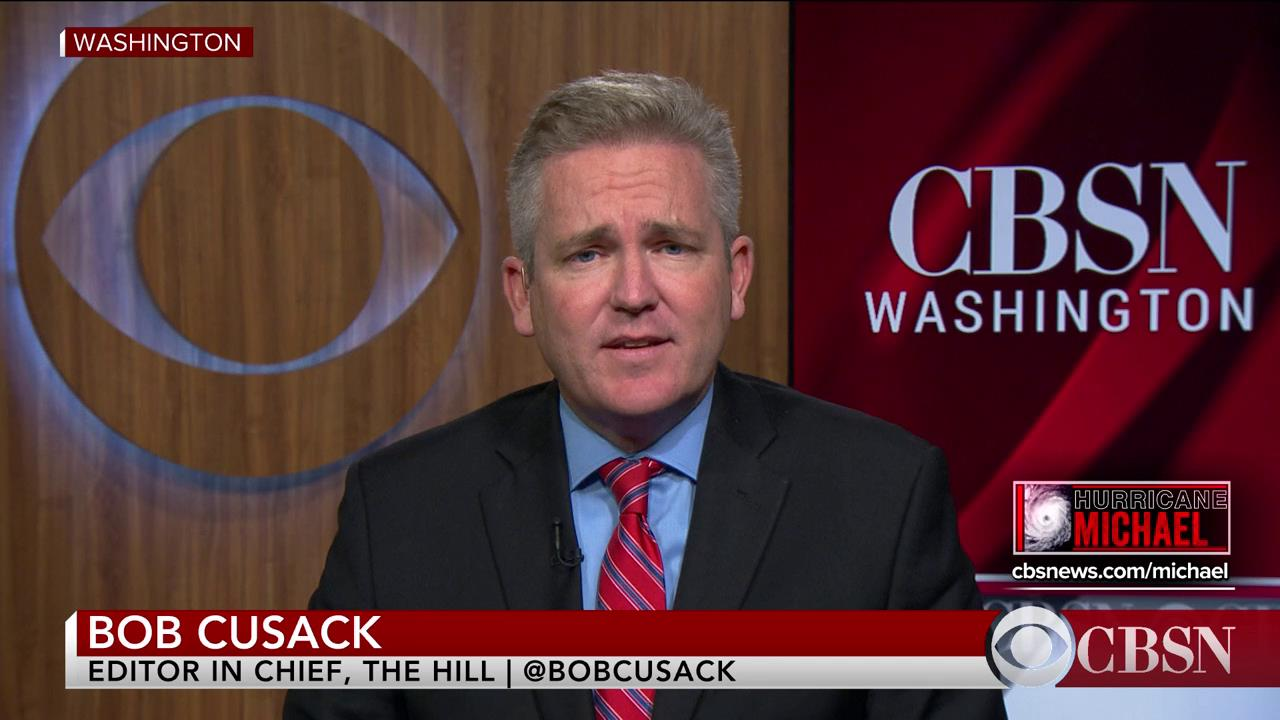BOB CUSACK: (86, 612, 383, 649)
CBSN: (887, 160, 1249, 277), (1076, 624, 1239, 677)
EDITOR IN CHIEF__ THE HILL | @BOBCUSACK: (86, 655, 738, 685)
HURRICANE: (1073, 485, 1229, 509)
MICHAEL: (1073, 511, 1210, 549)
WASHINGTON: (861, 288, 1258, 333), (72, 28, 245, 53)
cbsnews.com/michael: (1010, 563, 1230, 581)
